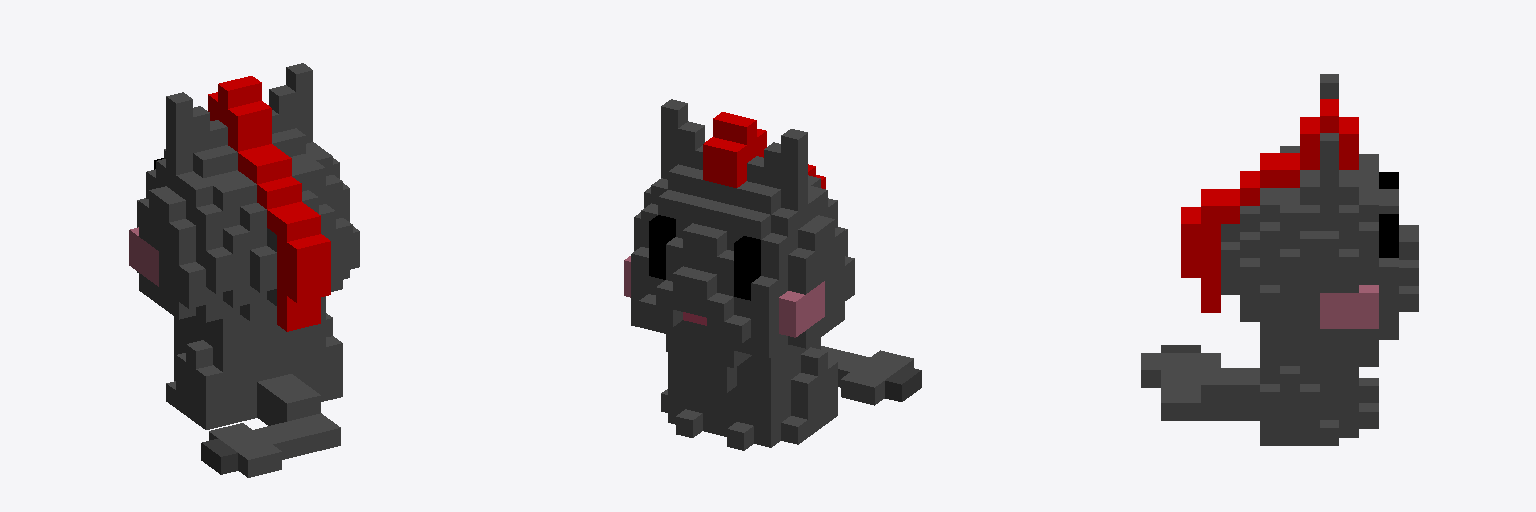
3 renders of one model, left to right at view 1: azimuth 30°, elevation 25°; view 2: azimuth 150°, elevation 25°; view 3: azimuth 270°, elevation 25°, orthographic.
Visible parts, largest first — view 1: object 1; view 2: object 1; view 3: object 1.
Boxes of the visible parts, <box> form: object 1: <box>129,63,359,477</box>; object 1: <box>624,99,921,450</box>; object 1: <box>1141,74,1418,445</box>.
Bounding box in the file's own units: 1.1 × 1.7 × 1.4.
1 materials, 1 textured.